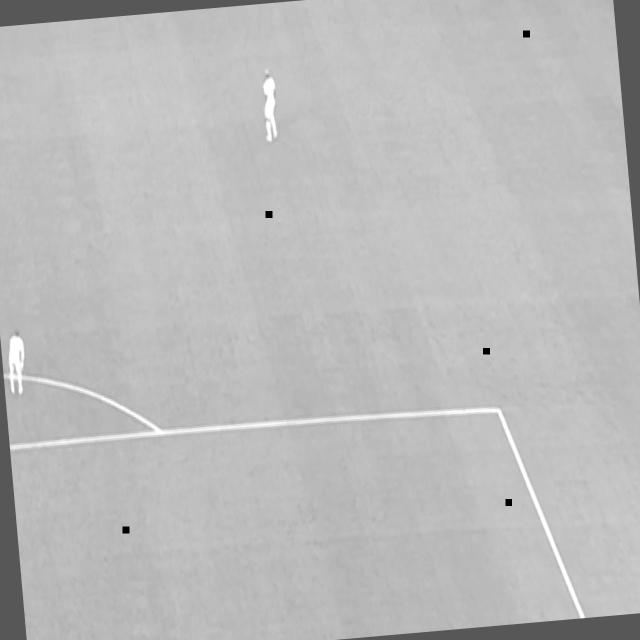player-white: (4, 325, 32, 399), (258, 66, 281, 146)
